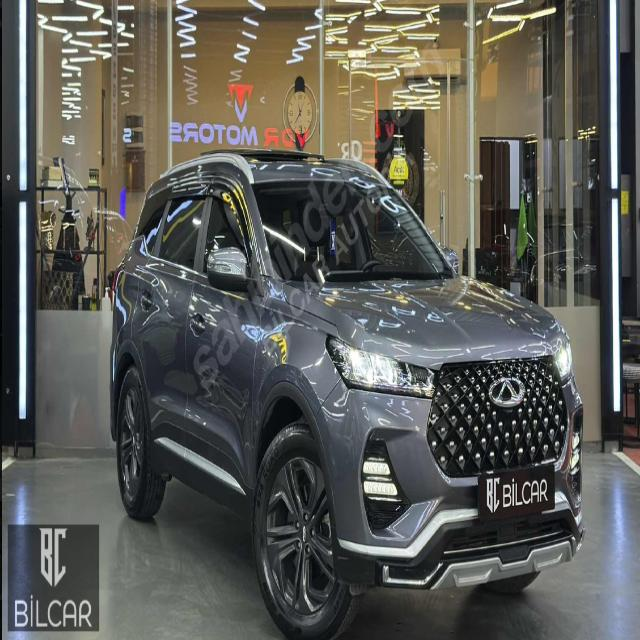cherry: (488, 373, 526, 410)
